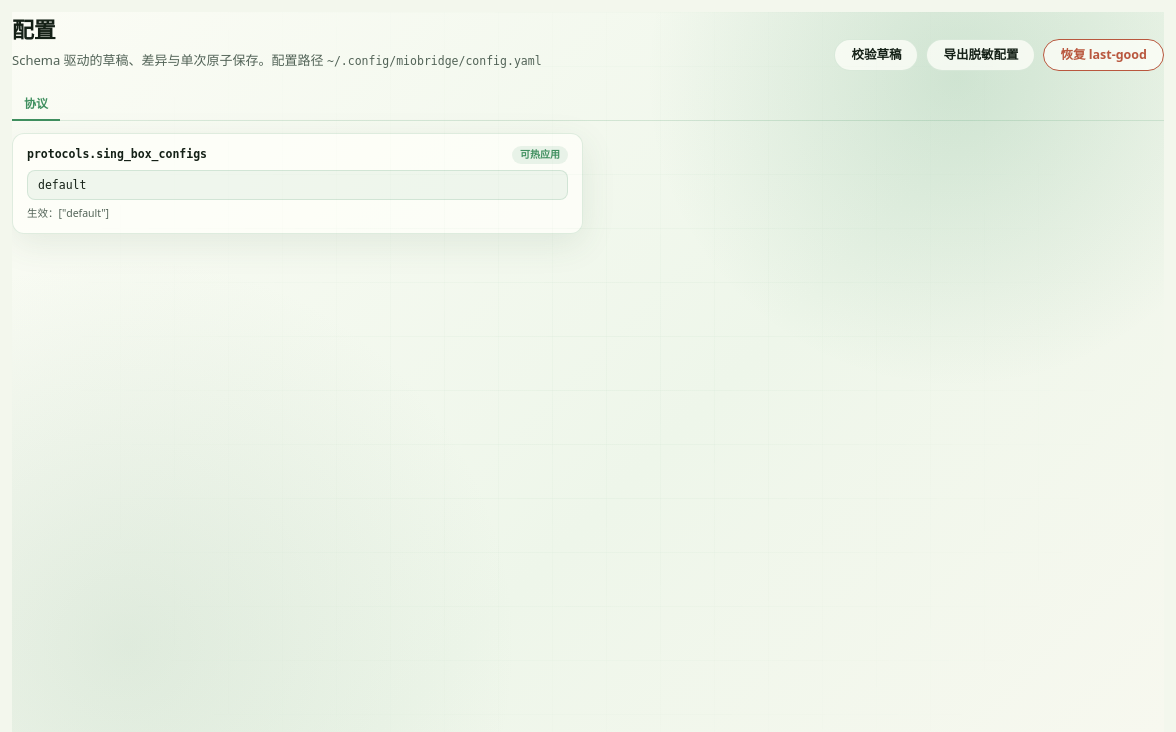
Scenario: Cluster Dashboard Page › manages structured config drafts without runtime capability cards
Replace the text in the field named "protocols.sing_box_configs" with "default, vless-reality": coordinates (298, 185) [27, 170, 568, 200]
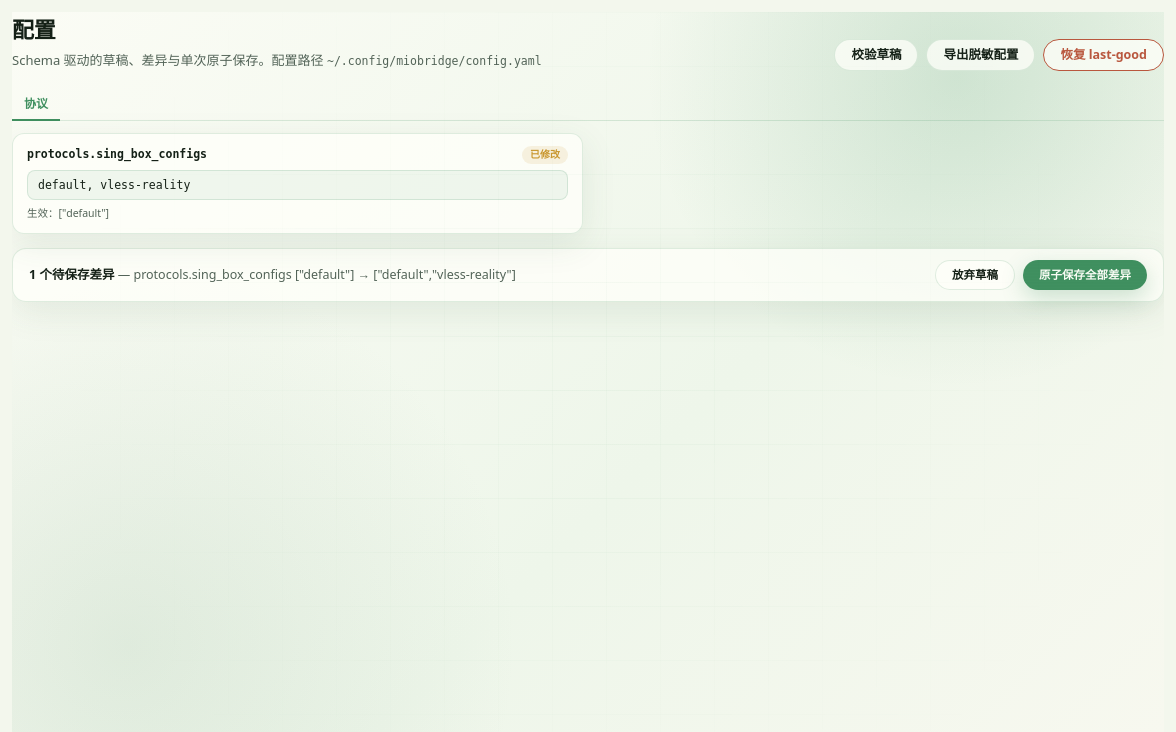
Result: the text "1 个待保存差异" is shown at [29, 266, 114, 283]
Result: the text "vless-reality" is shown at [133, 266, 516, 283]
